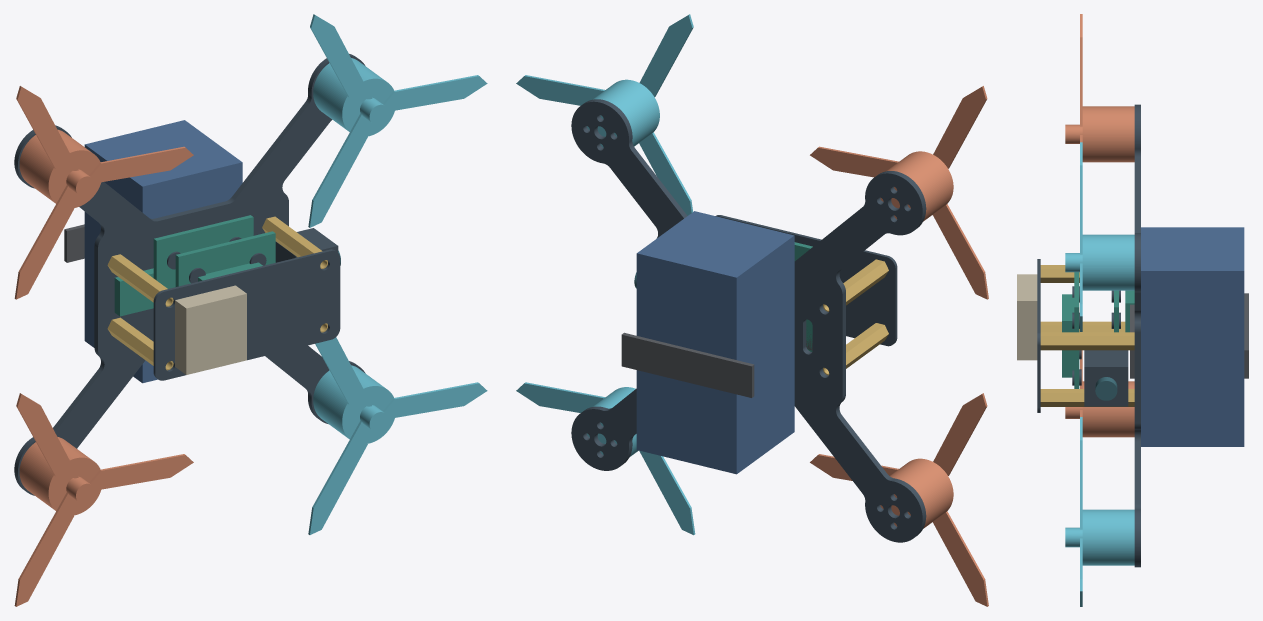
Rendered from HS3G_B_ASSEMBLY.glb.
The picture shows the model from 3 angles, left to right: view 1: azimuth 30°, elevation 25°; view 2: azimuth 150°, elevation 25°; view 3: azimuth 270°, elevation 25°; orthographic projection. The views are drawn at different scales.
Parts seen in each view (by area): view 1: bottom_plate, top_plate, battery_1, prop_4, prop_3, prop_1, prop_2, gps_1, motor_4, motor_1, motor_3, motor_2 (+8 smaller); view 2: battery_1, bottom_plate, prop_4, prop_3, strap_bottom, prop_1, top_plate, prop_2, motor_4, motor_3, motor_1, standoff_2 (+2 smaller); view 3: battery_1, bottom_plate, motor_2, motor_3, motor_4, camera_1, gps_1, standoff_4, motor_1, standoff_3, prop_2, prop_3 (+8 smaller).
Part boxes in pixels (box(x1,y1,x2,y2)): bottom_plate: box(14, 54, 365, 495); top_plate: box(153, 249, 340, 380); battery_1: box(84, 120, 242, 383); prop_4: box(14, 86, 193, 299); prop_3: box(308, 14, 487, 227); prop_1: box(14, 393, 193, 606); prop_2: box(308, 337, 487, 534); gps_1: box(175, 285, 246, 374); motor_4: box(19, 129, 101, 207); motor_1: box(19, 437, 100, 515); motor_3: box(313, 58, 394, 136); motor_2: box(313, 365, 394, 443); battery_1: box(636, 211, 794, 474); bottom_plate: box(571, 99, 926, 542); prop_4: box(810, 86, 988, 299); prop_3: box(516, 14, 693, 215); strap_bottom: box(621, 332, 754, 397); prop_1: box(810, 393, 988, 606); top_plate: box(715, 215, 897, 346); prop_2: box(516, 382, 695, 535); motor_4: box(880, 151, 953, 221); motor_3: box(586, 79, 659, 147); motor_1: box(880, 458, 953, 528); standoff_2: box(823, 259, 888, 311); battery_1: box(1141, 227, 1244, 446); bottom_plate: box(1134, 104, 1140, 567); motor_2: box(1082, 509, 1134, 565); motor_3: box(1082, 234, 1134, 290); motor_4: box(1082, 106, 1134, 162); camera_1: box(1084, 350, 1128, 406); gps_1: box(1017, 274, 1037, 360); standoff_4: box(1040, 332, 1134, 350); motor_1: box(1082, 381, 1134, 437); standoff_3: box(1040, 389, 1134, 406); prop_2: box(1065, 417, 1082, 606); prop_3: box(1065, 142, 1082, 331).
Size of the model in its own units: 0.1555 by 0.1636 by 0.074.
